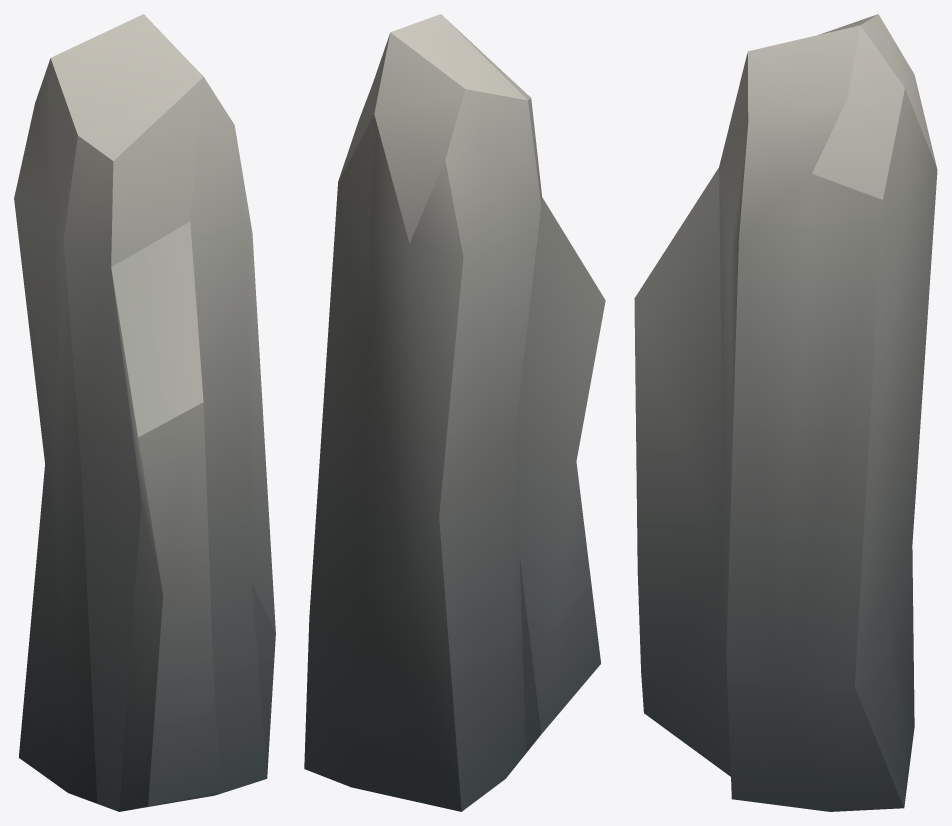
Rendered from Rock_Medium_D.fbx.
3 renders of one model, left to right at view 1: azimuth 30°, elevation 25°; view 2: azimuth 150°, elevation 25°; view 3: azimuth 270°, elevation 25°, orthographic.
Parts seen in each view (by area): view 1: Rock_Medium_D; view 2: Rock_Medium_D; view 3: Rock_Medium_D.
Part boxes in pixels (box(x1,y1,x2,y2)): Rock_Medium_D: box(14, 14, 275, 811); Rock_Medium_D: box(304, 14, 605, 811); Rock_Medium_D: box(634, 14, 937, 811).
Bounding box in the file's own units: 127 × 164 × 455.
Materials: 1 (1 with a texture image).
